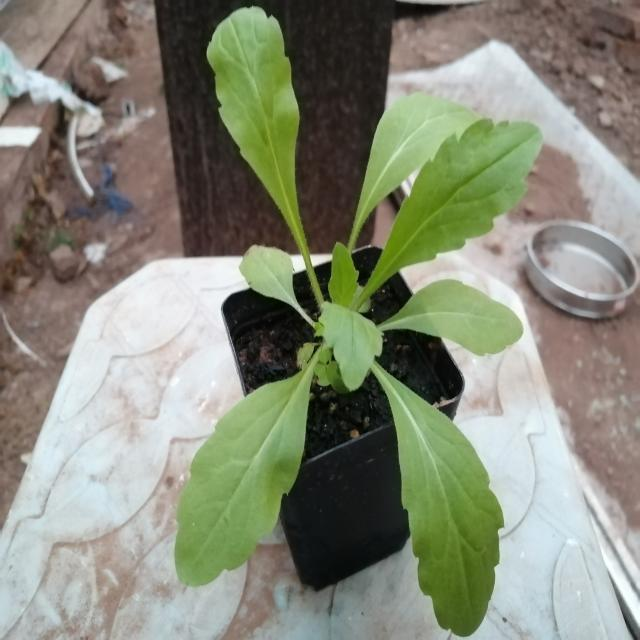horseweed: (186, 41, 508, 584)
